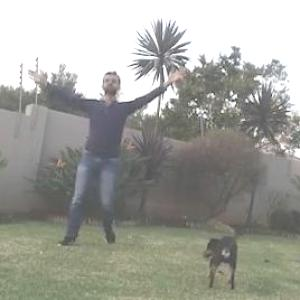takeoff: (45, 77, 173, 234)
